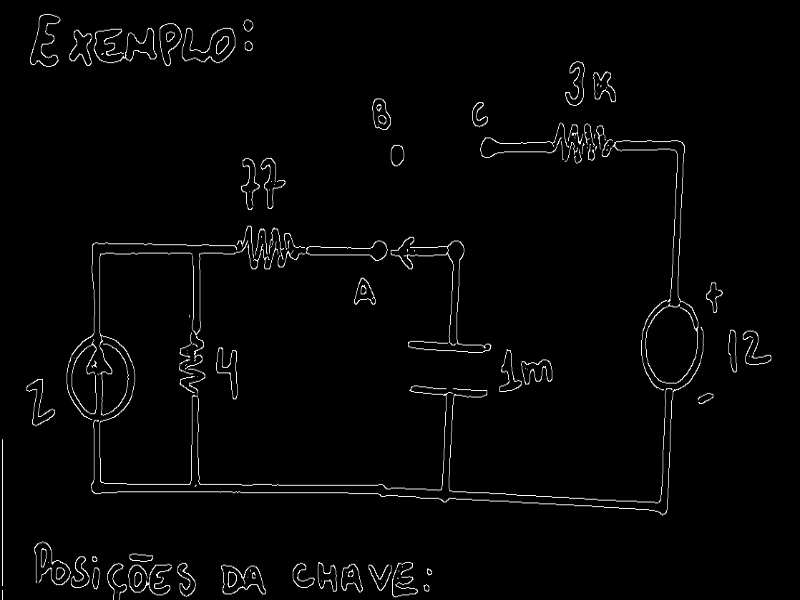-: (126, 550, 157, 563), (695, 390, 716, 407)
0: (206, 24, 237, 64), (126, 563, 150, 594), (50, 558, 73, 588)
1: (498, 347, 524, 397), (725, 326, 740, 376)
2: (737, 326, 773, 367)
3: (563, 59, 587, 110)
4: (213, 345, 241, 400)
7: (259, 154, 287, 211), (239, 155, 261, 212)
A: (351, 273, 379, 309), (339, 560, 366, 593), (242, 564, 268, 598)
H: (315, 560, 338, 593)
V: (366, 560, 395, 594)
k: (591, 68, 619, 106)
m: (123, 26, 159, 63), (520, 354, 555, 384)
p: (157, 21, 182, 67), (33, 538, 54, 587)
